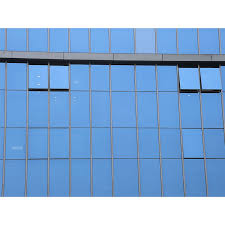glass panel: (114, 159, 138, 197), (112, 92, 136, 127), (184, 159, 205, 196), (162, 159, 183, 196), (140, 159, 160, 196), (27, 160, 47, 196), (4, 160, 24, 196), (49, 159, 68, 196), (71, 159, 90, 196), (137, 92, 157, 126), (180, 93, 200, 127), (202, 93, 222, 127), (113, 128, 136, 157), (93, 159, 111, 196), (206, 159, 224, 196), (159, 92, 178, 127), (7, 91, 25, 126), (29, 91, 47, 126), (71, 91, 89, 126), (50, 92, 68, 126), (182, 129, 203, 157), (138, 128, 158, 157), (92, 92, 109, 126), (111, 65, 134, 90), (28, 128, 47, 158), (71, 128, 90, 158), (6, 128, 25, 158), (160, 129, 180, 157), (204, 129, 224, 157), (111, 28, 133, 52), (92, 128, 110, 157), (50, 129, 68, 157), (177, 28, 197, 53), (7, 63, 26, 89), (157, 28, 176, 53), (199, 28, 218, 53), (91, 65, 109, 91), (136, 66, 155, 90), (157, 66, 176, 90), (200, 68, 221, 89), (28, 28, 47, 51), (136, 28, 154, 52), (71, 65, 88, 90), (179, 68, 199, 89), (7, 28, 26, 50), (70, 28, 88, 51), (29, 65, 47, 88), (50, 28, 68, 51), (91, 28, 108, 52), (50, 66, 68, 88), (0, 90, 4, 126), (0, 63, 5, 88), (220, 28, 224, 53), (0, 128, 3, 158), (0, 28, 4, 50), (221, 66, 224, 91), (0, 160, 2, 192)
